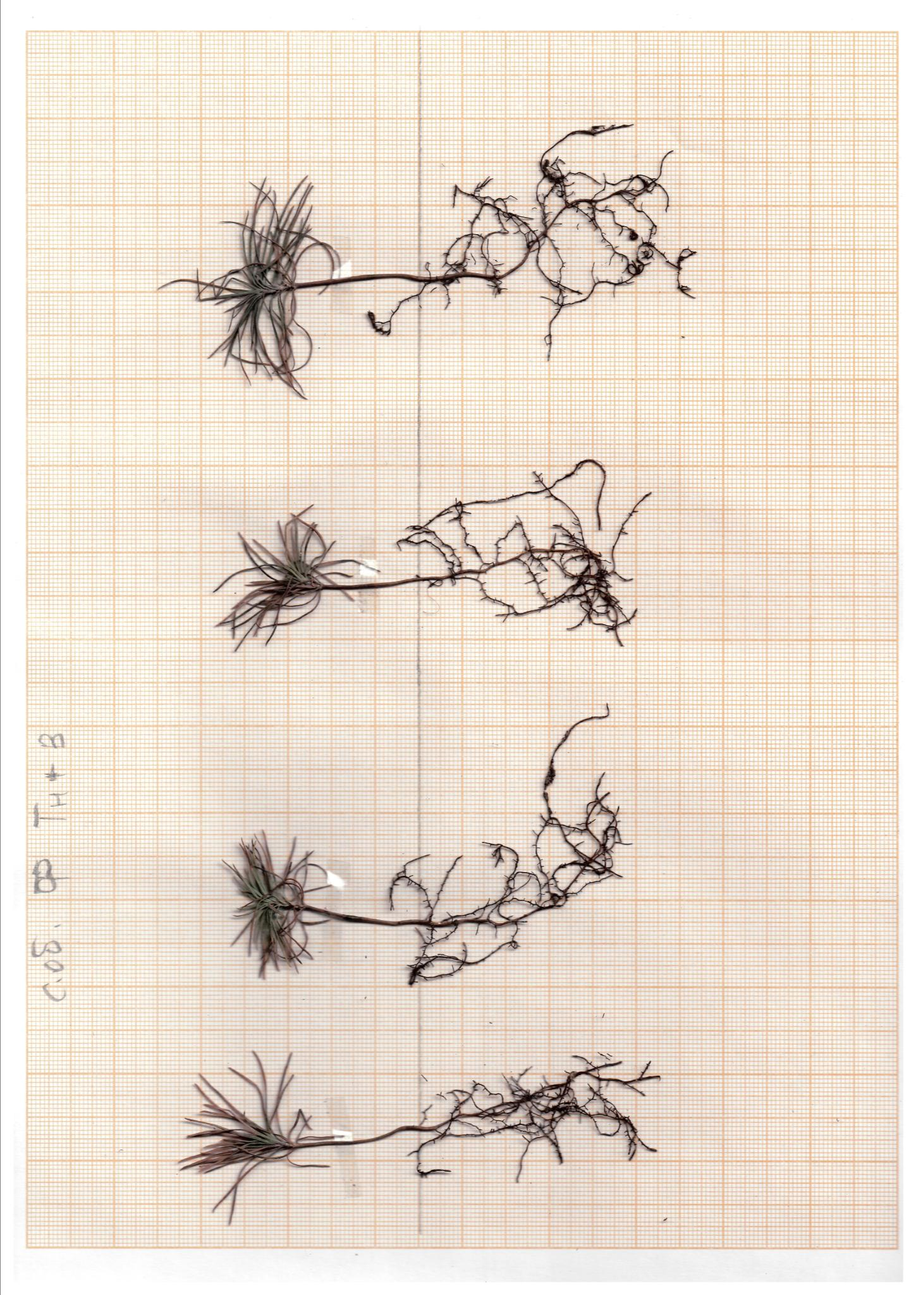cedr: (150, 114, 724, 408), (222, 698, 715, 990), (175, 1031, 679, 1230), (205, 453, 661, 661)
